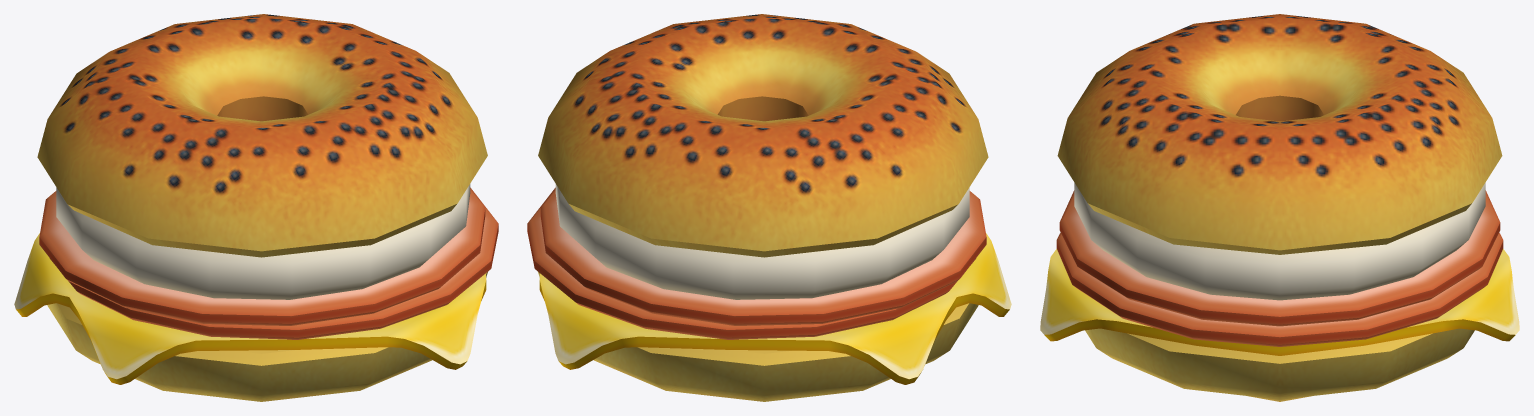
File: 007-Bagel_Breakfast1.FBX
3 views of the same model, side by side, from view 1: azimuth 30°, elevation 25°; view 2: azimuth 150°, elevation 25°; view 3: azimuth 270°, elevation 25° (orthographic).
Parts seen in each view (by area): view 1: 007-Bagel_Breakfast1; view 2: 007-Bagel_Breakfast1; view 3: 007-Bagel_Breakfast1.
Boxes of the visible parts, box(x1,y1,x2,y2) form: 007-Bagel_Breakfast1: box(14, 14, 498, 401); 007-Bagel_Breakfast1: box(527, 14, 1011, 401); 007-Bagel_Breakfast1: box(1040, 14, 1519, 401).
Size of the model in its own units: 18.32 by 11.19 by 18.76.
